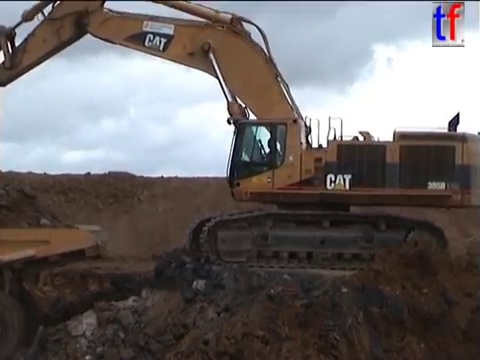excavator: (1, 1, 480, 275)
truck: (1, 219, 111, 360)
